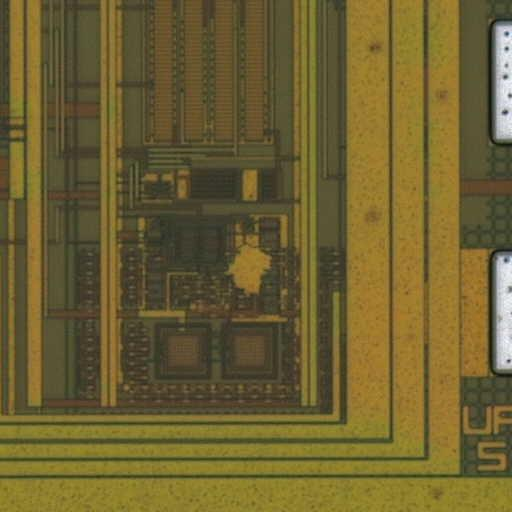BLOCK ETCH: (229, 245, 273, 294)
